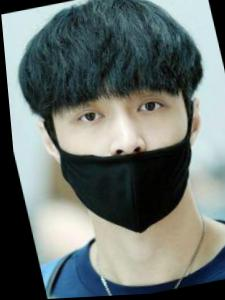WRONG: (44, 73, 208, 236)
